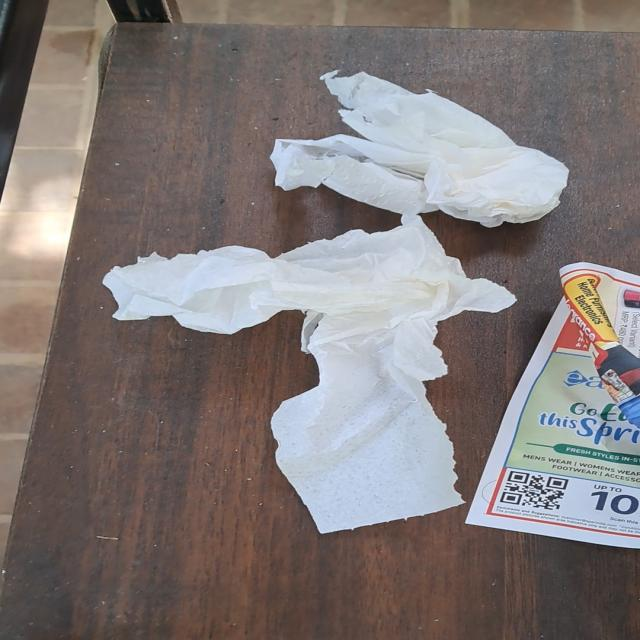Organik: (92, 207, 530, 545), (266, 65, 580, 232)
